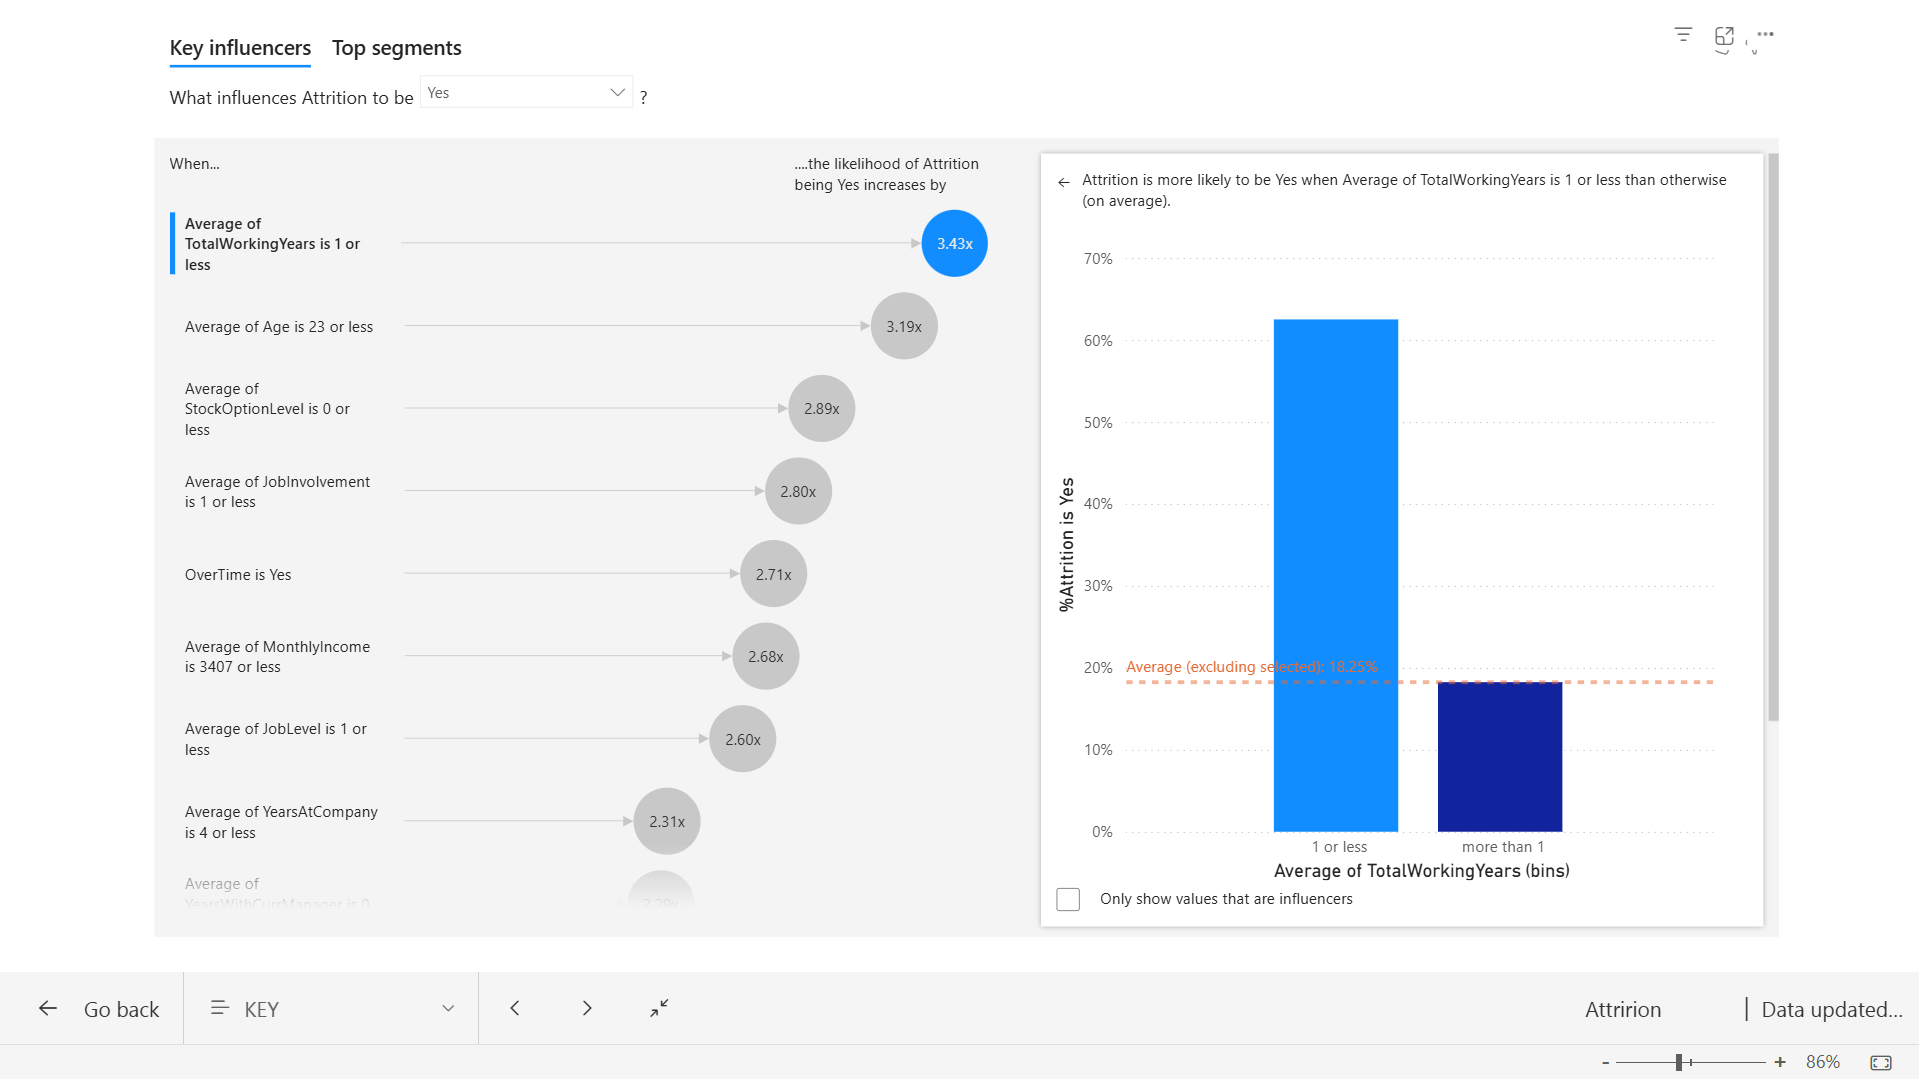

What the dashboard file says about the page in this screenshot:
{"tool":"powerbi","page":{"name":"KEY","canvas":[1280,720],"ordinal":6},"visuals":[{"type":"keyDriversVisual","fields":{"Target":["clean data.Attrition"],"ExplainBy":["Sum(clean data.Age)","clean data.BusinessTravel","Sum(clean data.DailyRate)","clean data.Department","Sum(clean data.DistanceFromHome)","Sum(clean data.Education)","clean data.EducationField","Sum(clean data.EnvironmentSatisfaction)","clean data.Gender","Sum(clean data.HourlyRate)","Sum(clean data.JobInvolvement)","Sum(clean data.JobLevel)"]},"box":[9.9,0,1269.6,719.8],"z":0}]}

Visuals, with their boxes on the page's 1280x720 design canvas (x1, y1, x2, y2). These are canvas units, not pixel positions in the 1919x1079 screenshot, which may show the page scaled, cropped or inside an application window:
keyDriversVisual - clean data.Attrition x Sum(clean data.Age): BBox(10, 0, 1280, 720)
